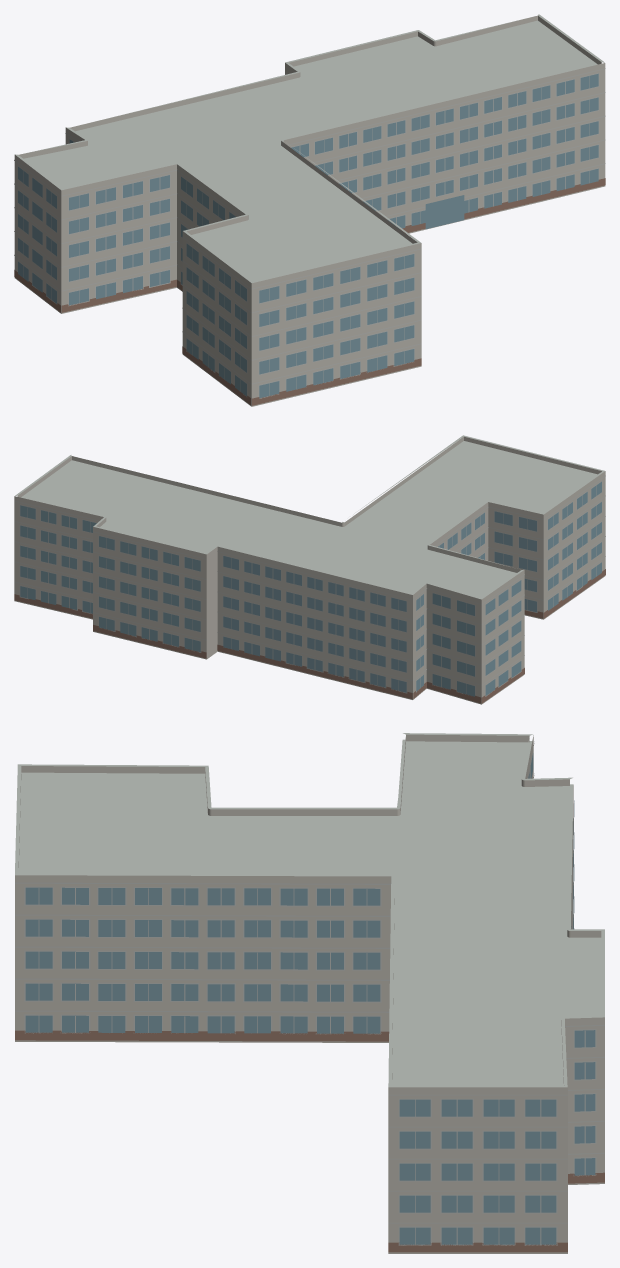
Rendered from public-702107b2-2936-4b90-bb72-d06d6a952cf2.glb.
3 views of the same model, one above another, from view 1: azimuth 30°, elevation 25°; view 2: azimuth 150°, elevation 25°; view 3: azimuth 270°, elevation 25° (orthographic). The views are drawn at different scales.
Parts seen in each view (by area): view 1: public-702107b2-2936-4b90-bb72-d06d6a952cf2; view 2: public-702107b2-2936-4b90-bb72-d06d6a952cf2; view 3: public-702107b2-2936-4b90-bb72-d06d6a952cf2.
Part boxes in pixels (<box>): public-702107b2-2936-4b90-bb72-d06d6a952cf2: <box>14,14,605,406</box>; public-702107b2-2936-4b90-bb72-d06d6a952cf2: <box>14,435,605,704</box>; public-702107b2-2936-4b90-bb72-d06d6a952cf2: <box>15,733,604,1253</box>.
Size of the model in its own units: 69.69 by 15.25 by 49.12.
